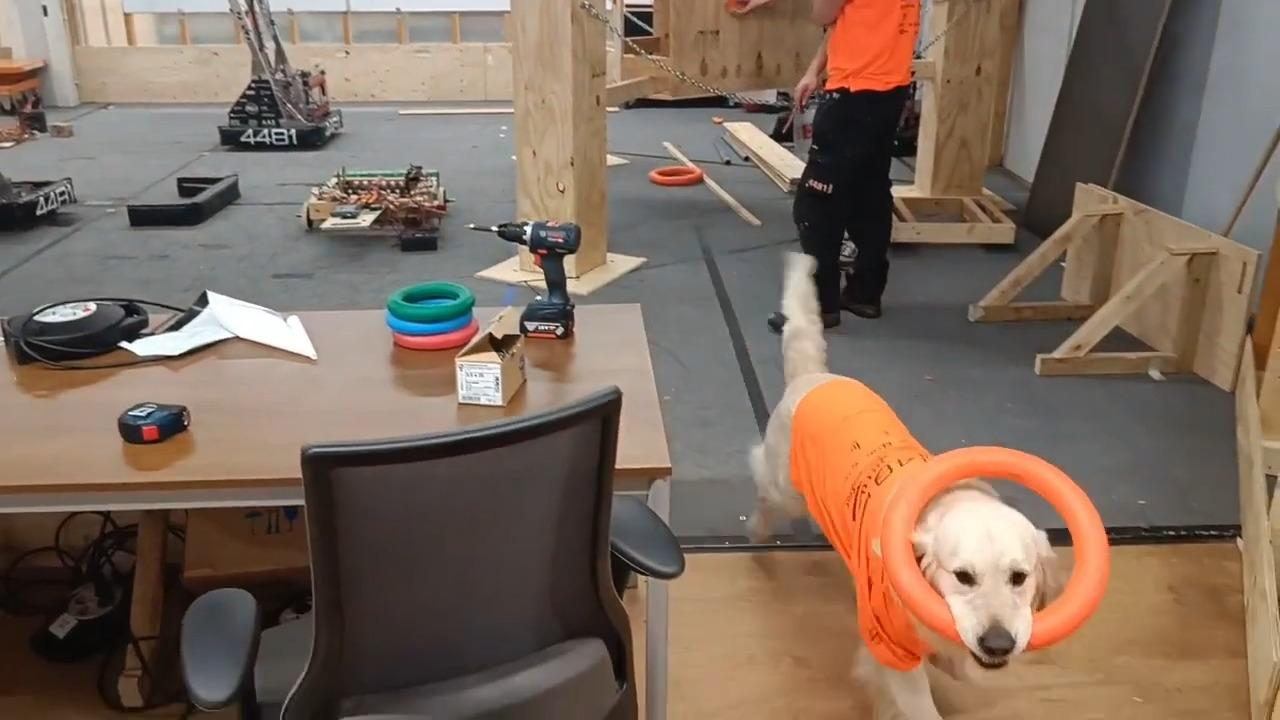robot: (215, 0, 349, 148), (0, 170, 80, 232)
